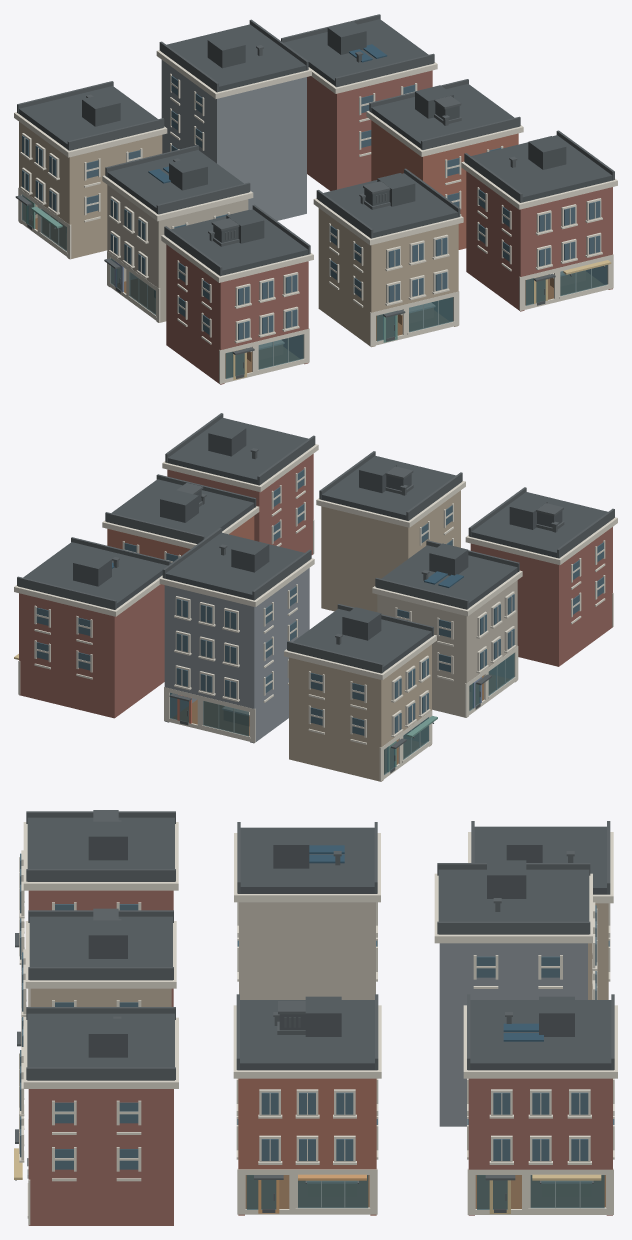
Rendered from downtown-block-p0-p1.glb.
3 renders of one model, top to bottom at view 1: azimuth 30°, elevation 25°; view 2: azimuth 150°, elevation 25°; view 3: azimuth 270°, elevation 25°, orthographic. The views are drawn at different scales.
Parts seen in each view (by area): view 1: urban_townhouse_03.005, urban_townhouse_13.001, urban_townhouse_07.005, urban_townhouse_01.001, urban_townhouse_06.005, urban_townhouse_08.005, urban_townhouse_04.005, urban_townhouse_05.005; view 2: urban_townhouse_07.005, urban_townhouse_08.005, urban_townhouse_06.005, urban_townhouse_13.001, urban_townhouse_04.005, urban_townhouse_01.001, urban_townhouse_03.005, urban_townhouse_05.005; view 3: urban_townhouse_03.005, urban_townhouse_08.005, urban_townhouse_05.005, urban_townhouse_07.005, urban_townhouse_04.005, urban_townhouse_13.001, urban_townhouse_01.001, urban_townhouse_06.005.
Part boxes in pixels (left/top/right/bottom): urban_townhouse_03.005: left=461, top=130, right=617, bottom=311; urban_townhouse_13.001: left=161, top=204, right=313, bottom=384; urban_townhouse_07.005: left=156, top=19, right=311, bottom=220; urban_townhouse_01.001: left=313, top=168, right=463, bottom=347; urban_townhouse_06.005: left=14, top=81, right=167, bottom=259; urban_townhouse_08.005: left=281, top=14, right=437, bottom=190; urban_townhouse_04.005: left=102, top=145, right=253, bottom=322; urban_townhouse_05.005: left=366, top=79, right=523, bottom=249; urban_townhouse_07.005: left=159, top=528, right=314, bottom=743; urban_townhouse_08.005: left=14, top=537, right=170, bottom=718; urban_townhouse_06.005: left=284, top=604, right=437, bottom=781; urban_townhouse_13.001: left=465, top=487, right=617, bottom=666; urban_townhouse_04.005: left=372, top=540, right=522, bottom=717; urban_townhouse_01.001: left=316, top=451, right=465, bottom=611; urban_townhouse_03.005: left=162, top=413, right=318, bottom=554; urban_townhouse_05.005: left=102, top=474, right=259, bottom=563; urban_townhouse_03.005: left=14, top=1007, right=178, bottom=1225; urban_townhouse_08.005: left=463, top=994, right=617, bottom=1215; urban_townhouse_05.005: left=233, top=994, right=381, bottom=1215; urban_townhouse_07.005: left=434, top=860, right=597, bottom=1126; urban_townhouse_04.005: left=234, top=822, right=380, bottom=999; urban_townhouse_13.001: left=15, top=810, right=178, bottom=1006; urban_townhouse_01.001: left=17, top=908, right=176, bottom=1046; urban_townhouse_06.005: left=468, top=821, right=613, bottom=999.
Bounding box in the file's own units: 34.32 × 13.69 × 33.66.
